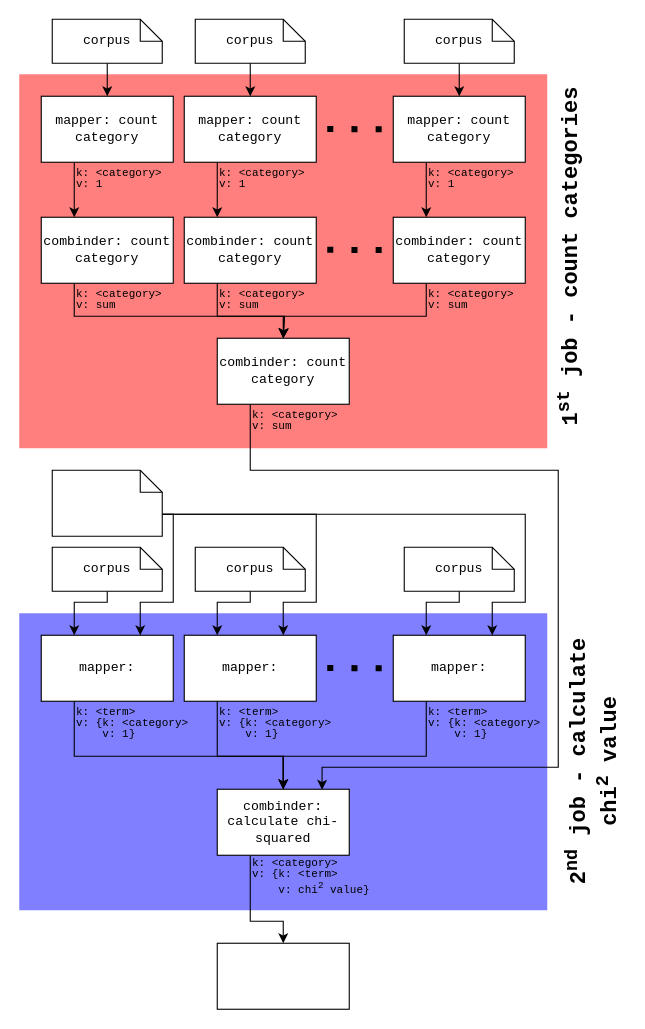
The diagram is 645 pixels wide and 1029 high, and some of its shapes have lost their labels. The centre of each missing label's shape, as x and y in pixels:
"select top 75" goes at pixel 282 975.
"stopwords" goes at pixel 106 502.
